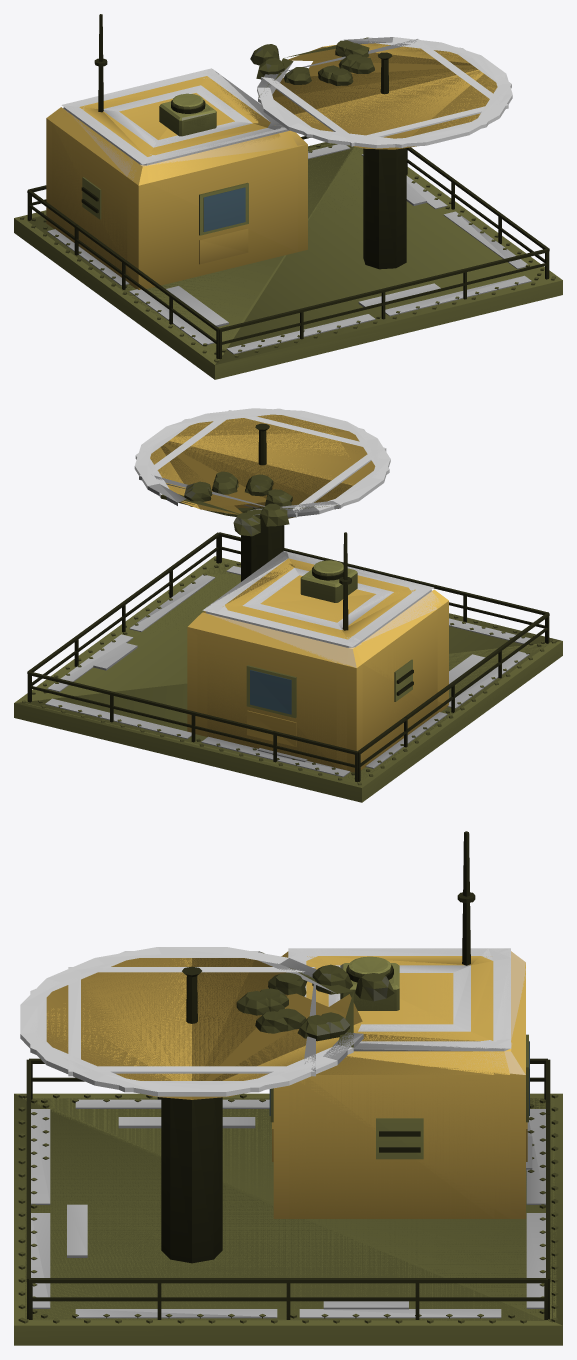
File: meridian_radar_damaged.glb
The picture shows the model from 3 angles, top to bottom: view 1: azimuth 30°, elevation 25°; view 2: azimuth 150°, elevation 25°; view 3: azimuth 270°, elevation 25°; orthographic projection. The views are drawn at different scales.
Parts seen in each view (by area): view 1: body (×3); view 2: body (×3); view 3: body (×3).
Boxes of the visible parts, x1=… form: body (×3): x1=14, y1=14, x2=562, y2=379; body (×3): x1=14, y1=408, x2=562, y2=802; body (×3): x1=14, y1=831, x2=562, y2=1345.
Bounding box in the file's own units: 7.4 × 4.7 × 7.4.
